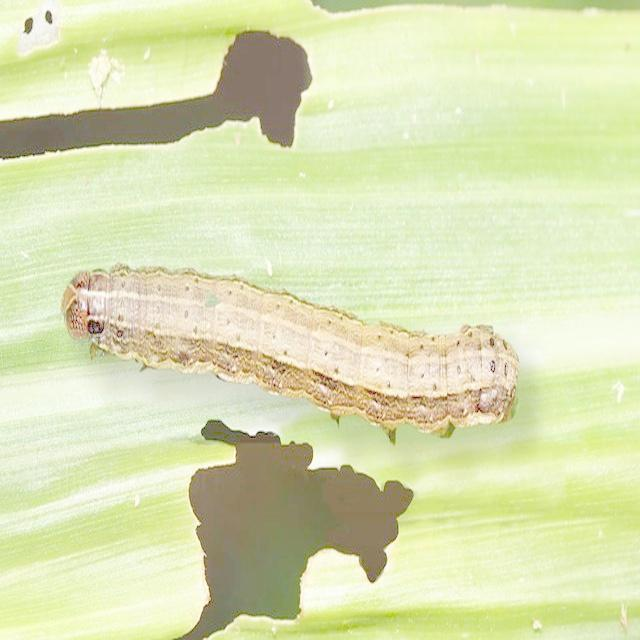Plaga: (65, 265, 518, 428)
